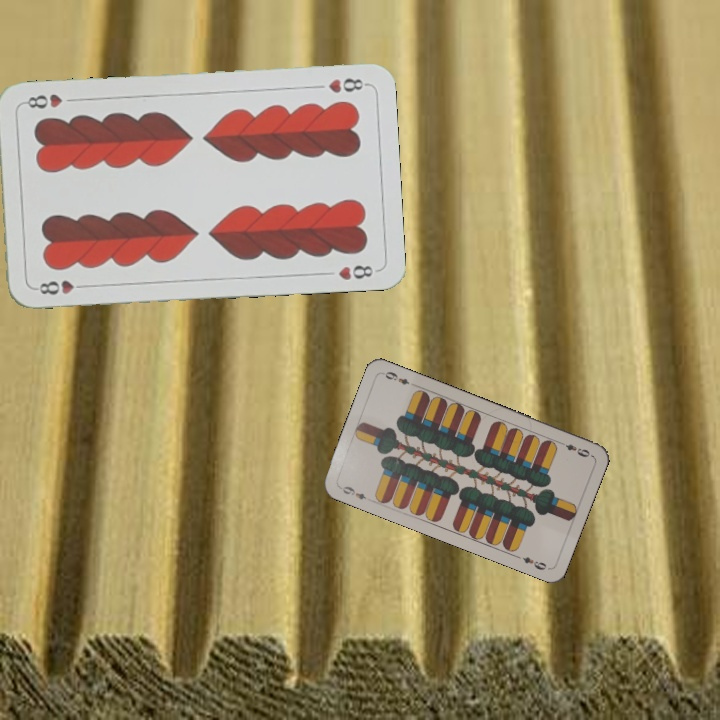E9: (335, 482, 374, 504), (555, 438, 592, 460)
H8: (31, 276, 90, 298), (324, 74, 369, 96)
